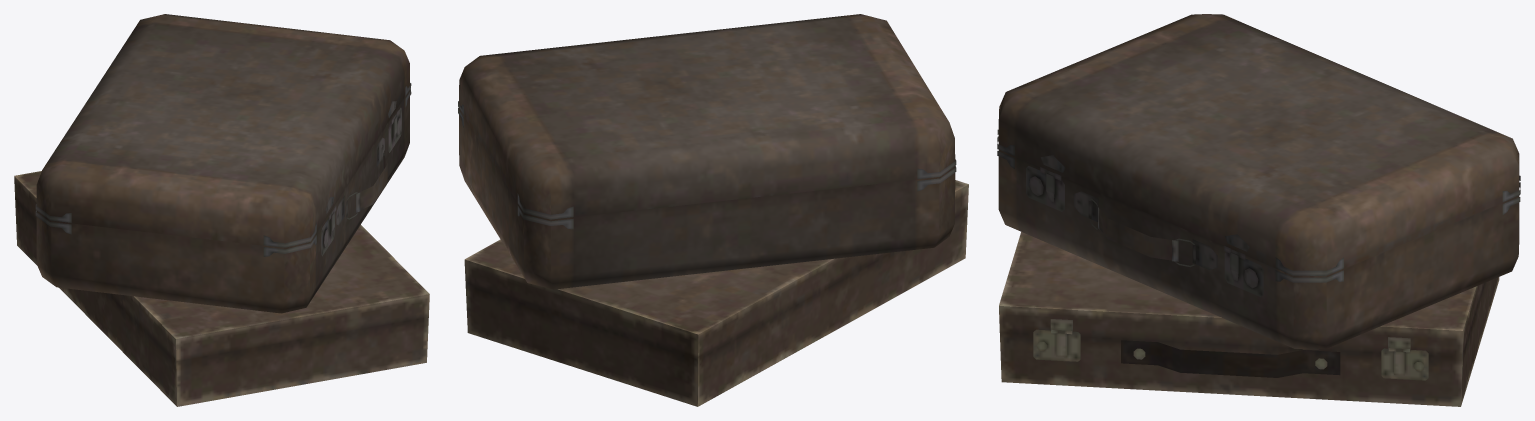
Rendered from ItemSpot.fbx.
3 views of the same model, side by side, from view 1: azimuth 30°, elevation 25°; view 2: azimuth 150°, elevation 25°; view 3: azimuth 270°, elevation 25° (orthographic). The views are drawn at different scales.
Parts seen in each view (by area): view 1: ItemBox_Suitcase_01, ItemBox_Suitcase_03; view 2: ItemBox_Suitcase_01, ItemBox_Suitcase_03; view 3: ItemBox_Suitcase_01, ItemBox_Suitcase_03.
Part boxes in pixels (left/top/right/bottom): ItemBox_Suitcase_01: left=35, top=14, right=411, bottom=313; ItemBox_Suitcase_03: left=14, top=171, right=429, bottom=406; ItemBox_Suitcase_01: left=458, top=14, right=956, bottom=289; ItemBox_Suitcase_03: left=464, top=180, right=968, bottom=406; ItemBox_Suitcase_01: left=997, top=14, right=1520, bottom=349; ItemBox_Suitcase_03: left=999, top=232, right=1499, bottom=406.
Size of the model in its own units: 1.11 by 0.5095 by 1.11.
Materials: 1 (1 with a texture image).
